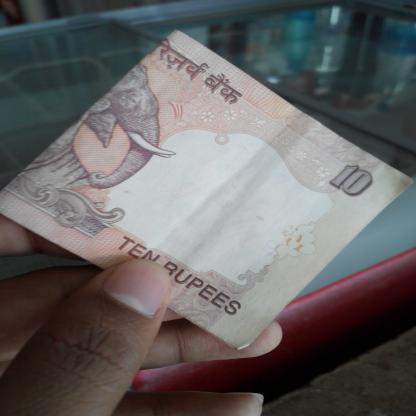Old10Back: (0, 28, 416, 350)
